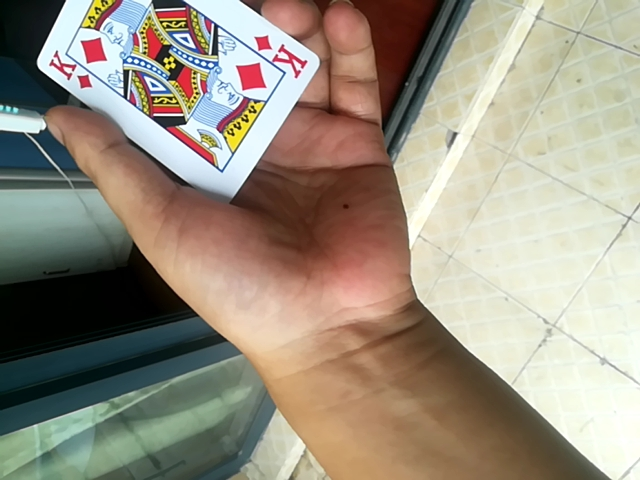fk k: (39, 0, 323, 199)
